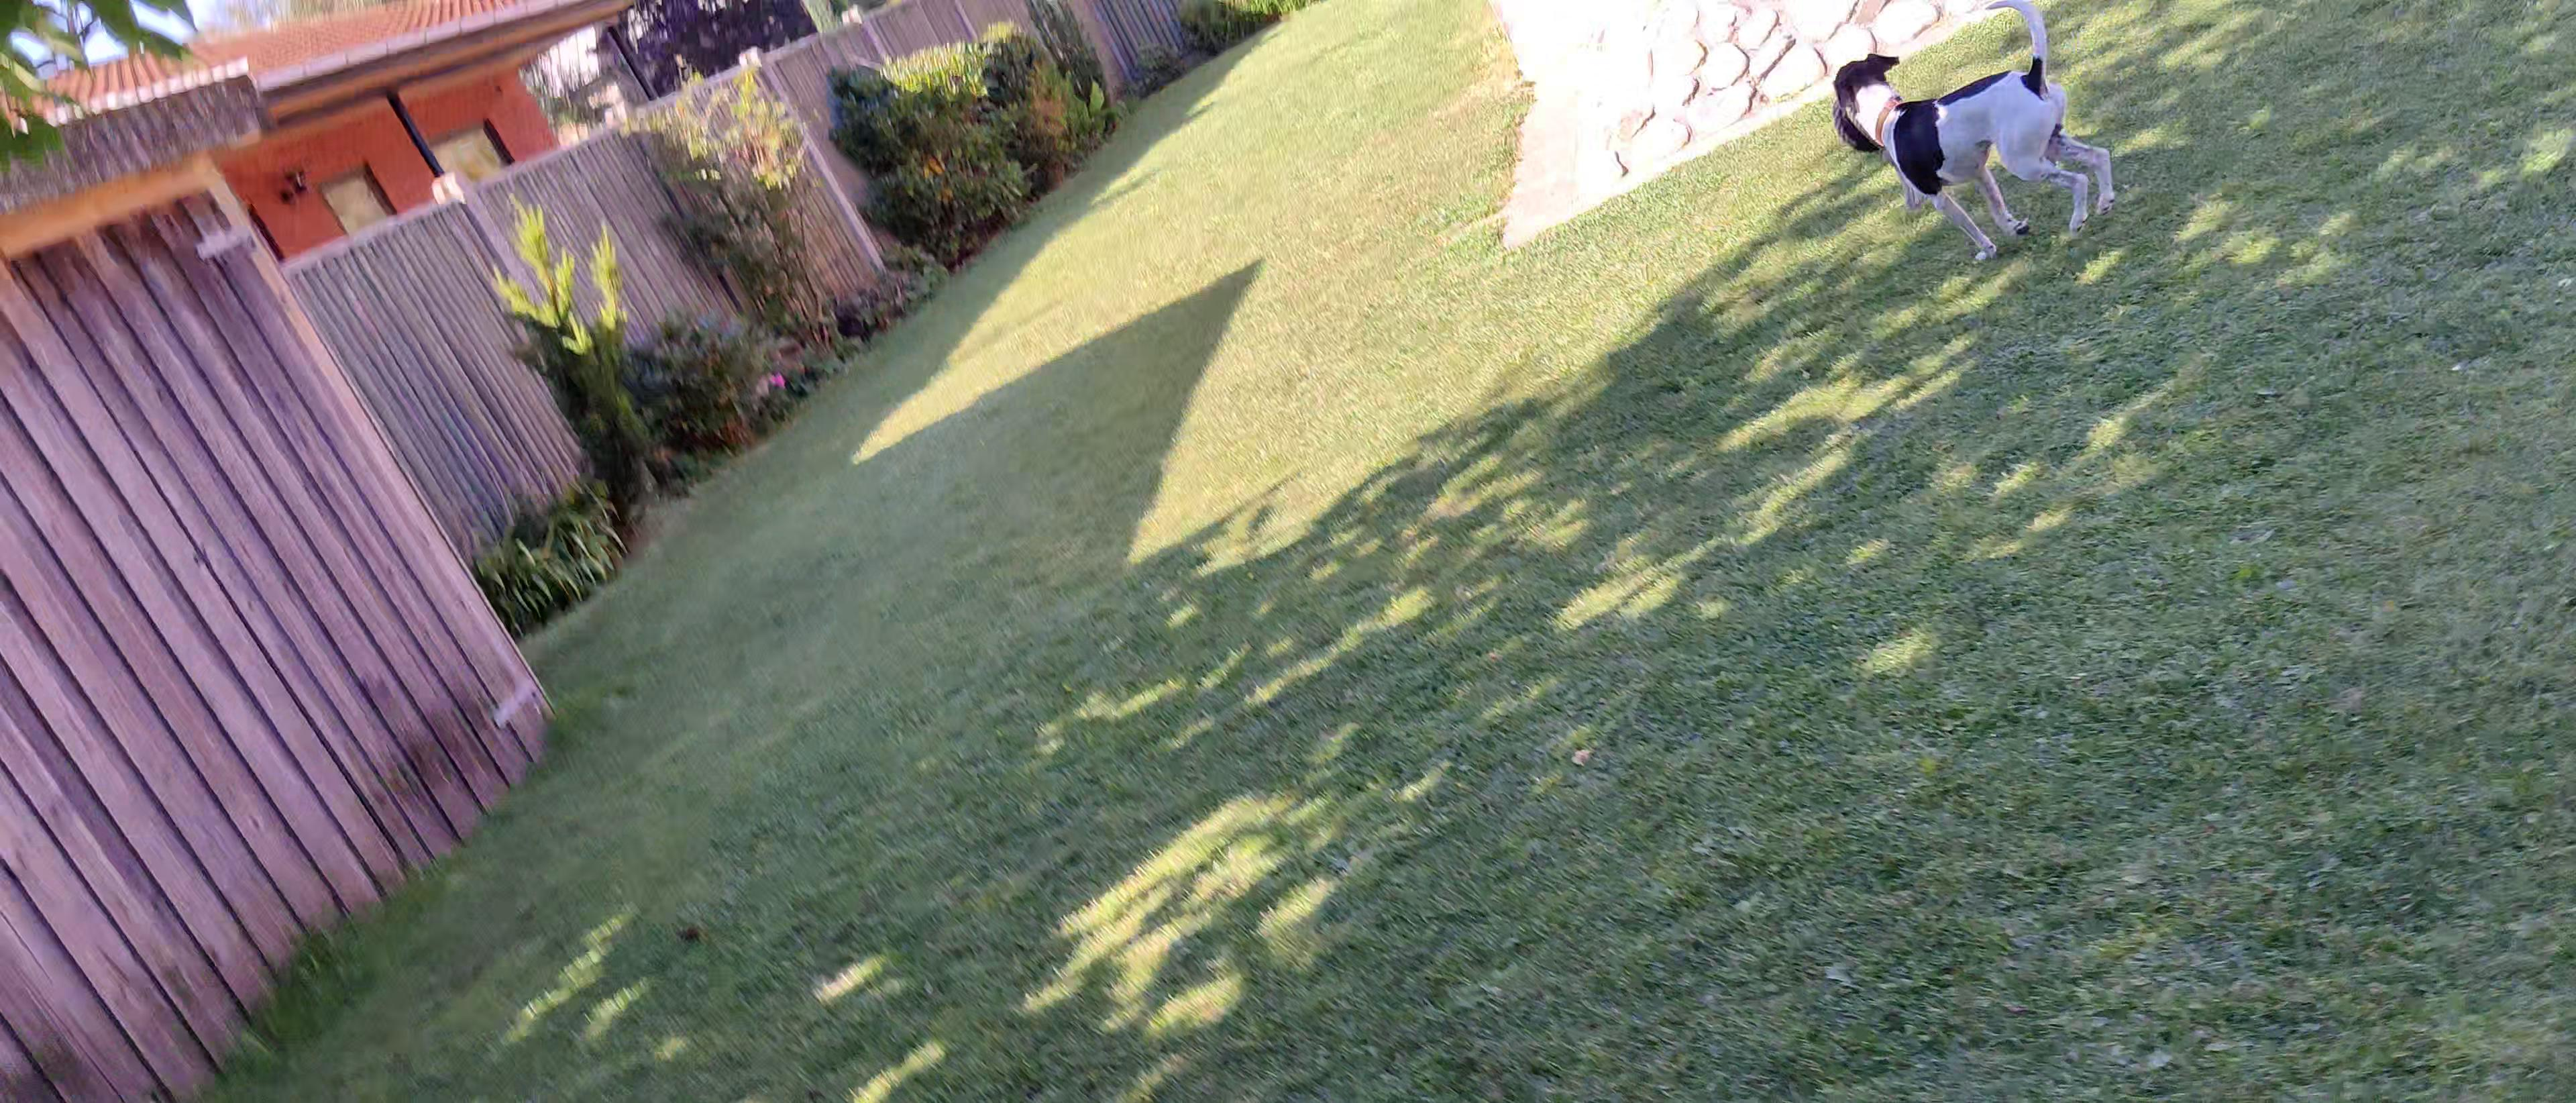Dog: (1822, 0, 2123, 268)
